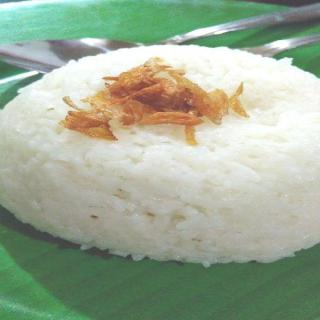Nasi: (1, 44, 320, 266)
